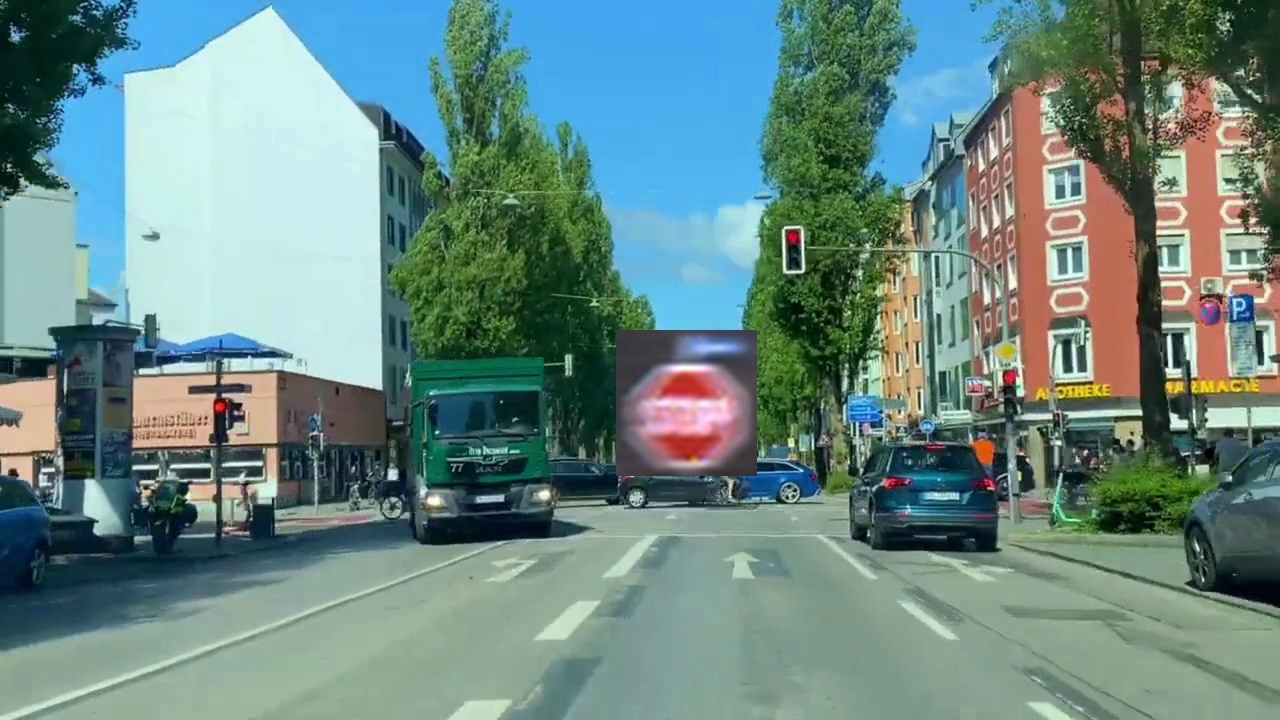Stop: (616, 330, 757, 476)
